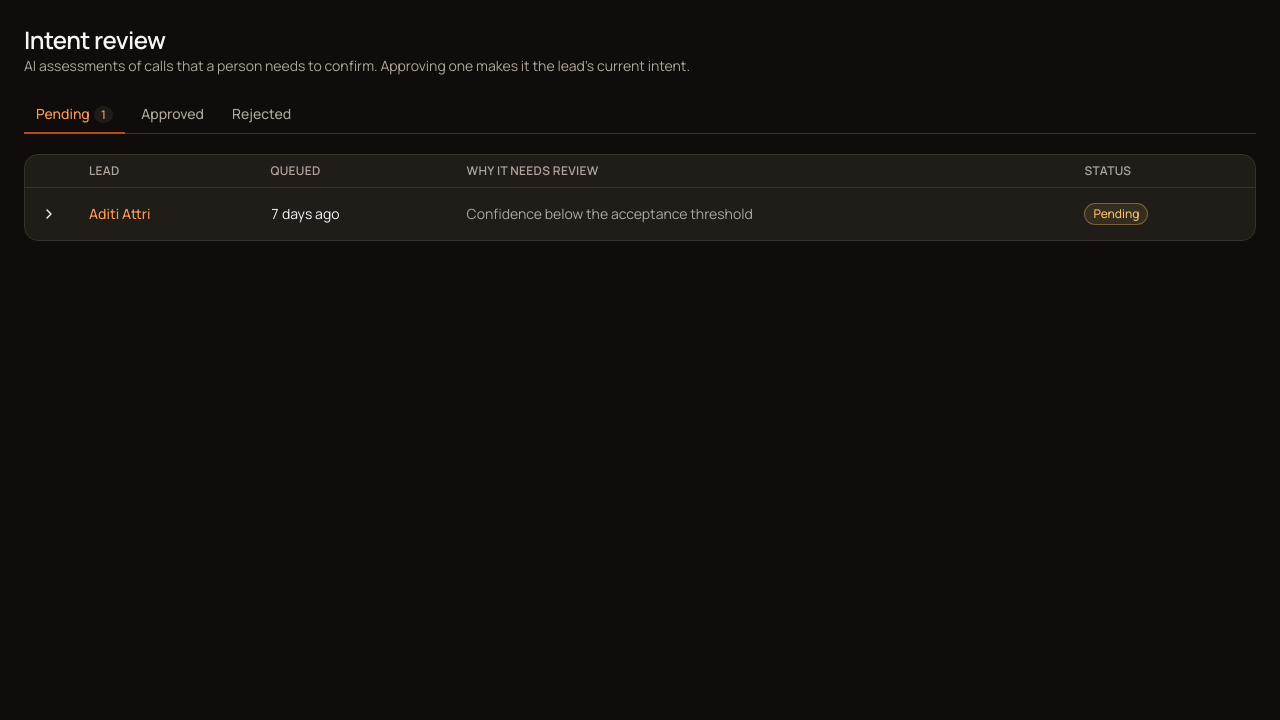
Test: Intent review › approves with a required reason and refreshes
Click the button named "Show details for Aditi Attri".
click(49, 214)  # box [33,198,65,230]
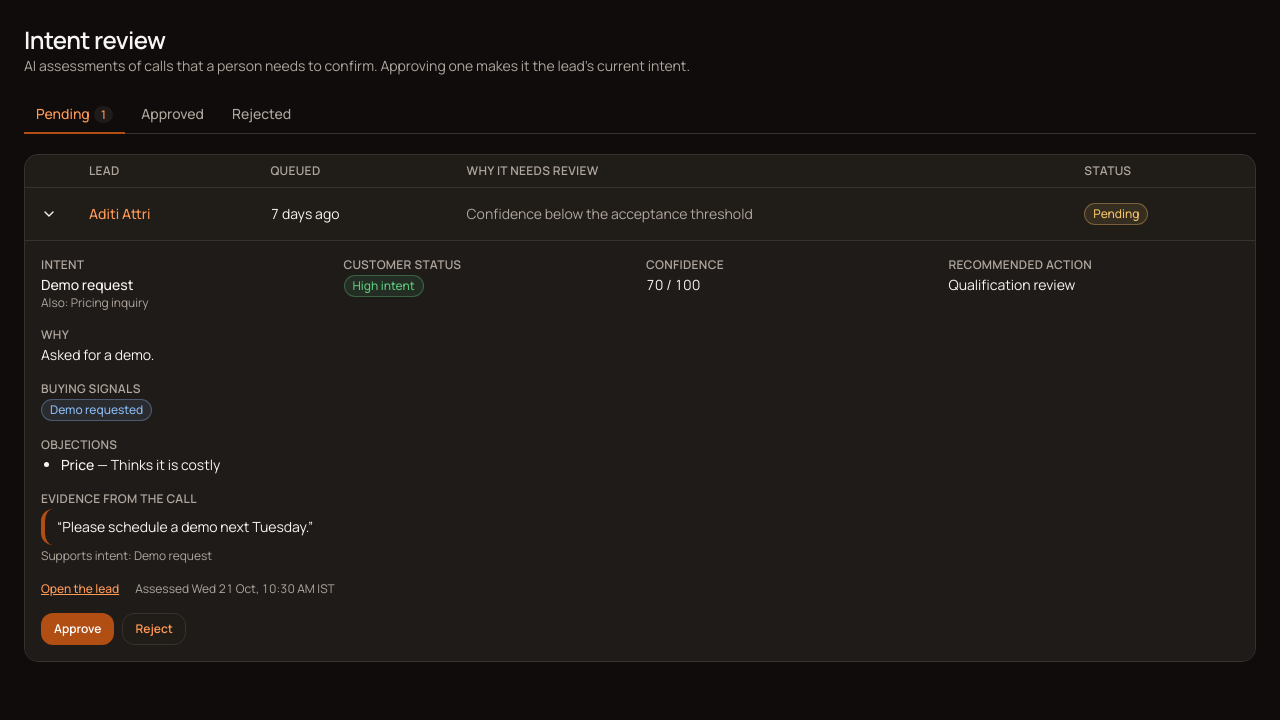
Click the button "Approve".
click(78, 629)  # box [41,613,114,645]
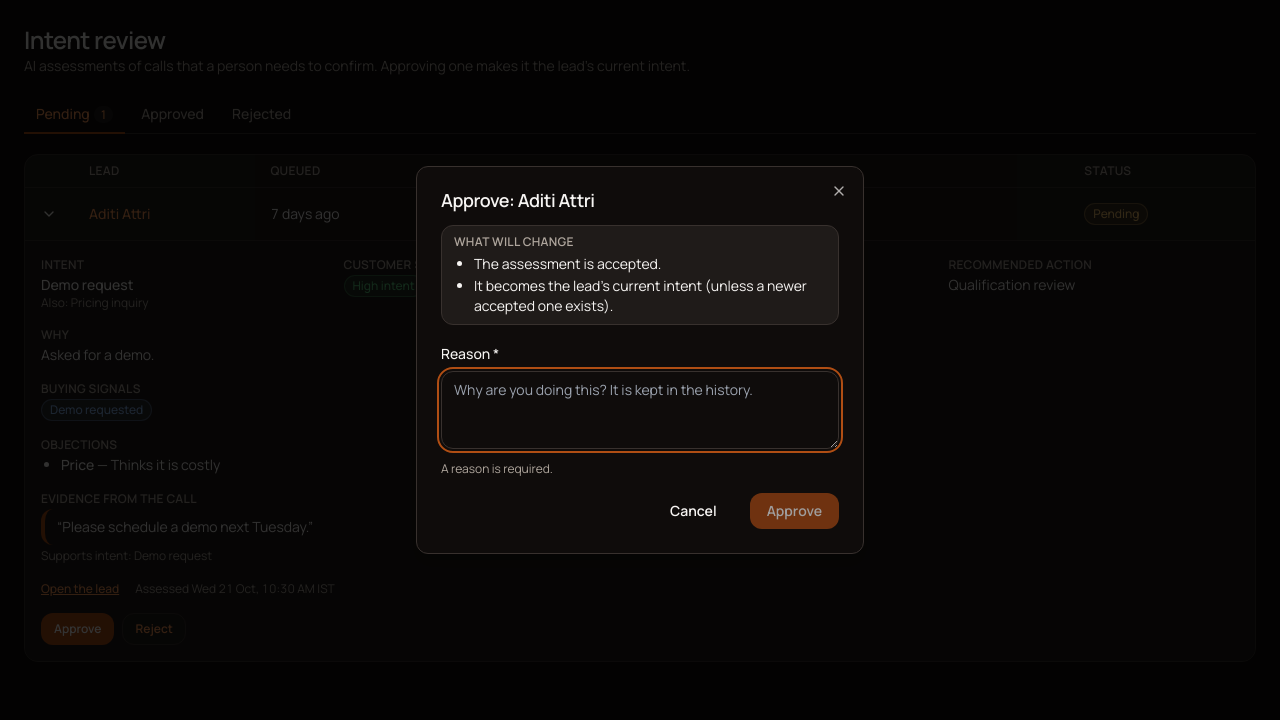
Result: the button "Approve" is disabled at [750,493,839,529]
Type "Evidence checked" into the text box.
click(640, 410); type("Evidence checked")  # box [441,371,839,449]
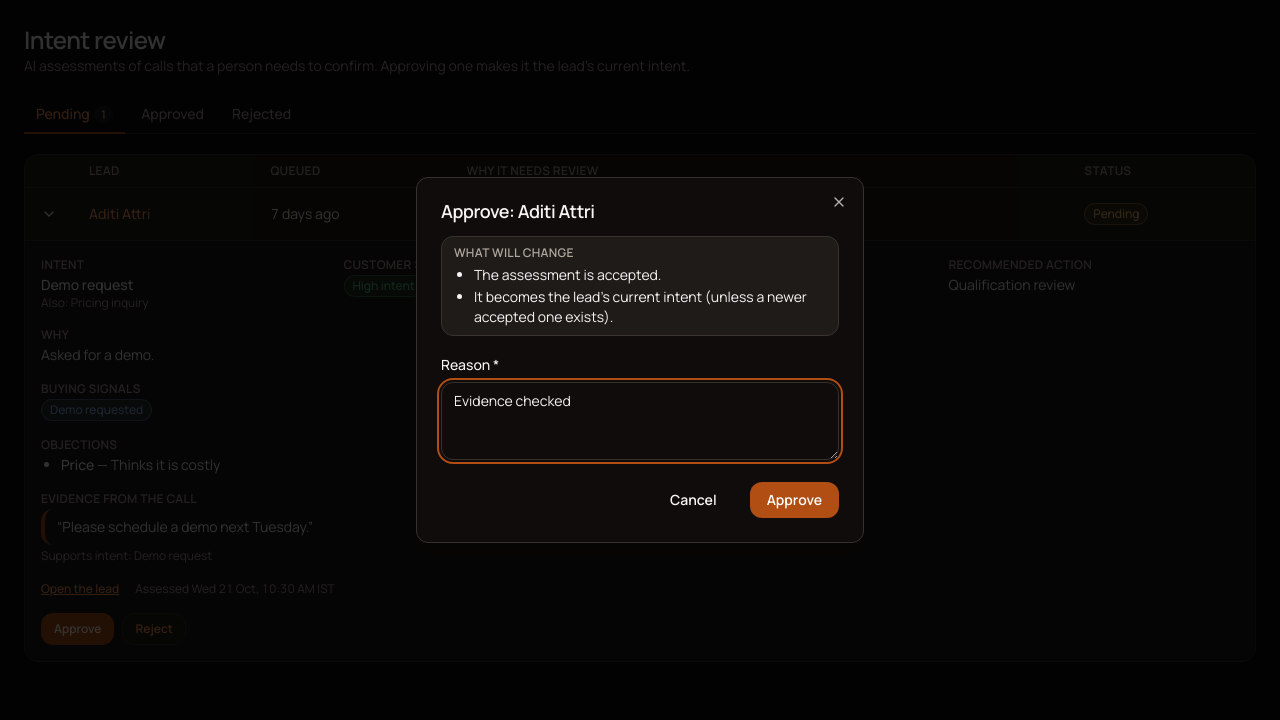
Click the button "Approve".
click(794, 500)  # box [750,482,839,518]
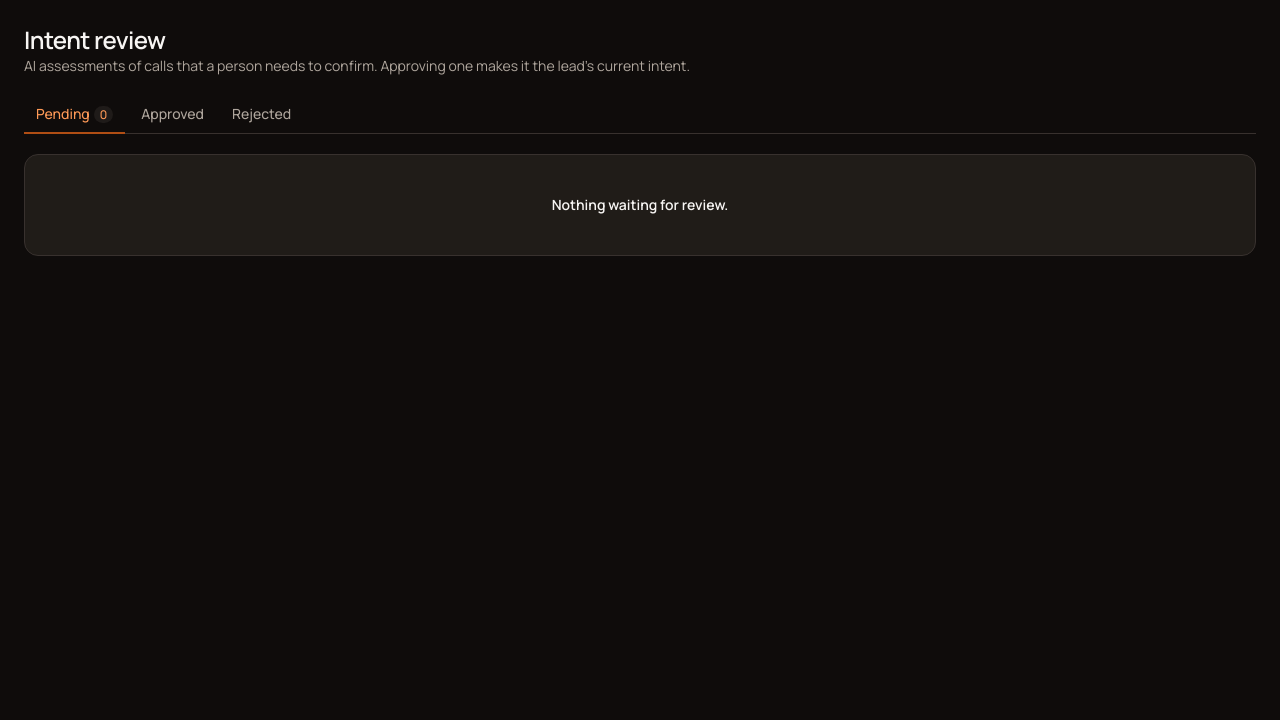
Result: the text "Nothing waiting for review." is shown at [552,195,728,214]
Result: the dialog is gone
